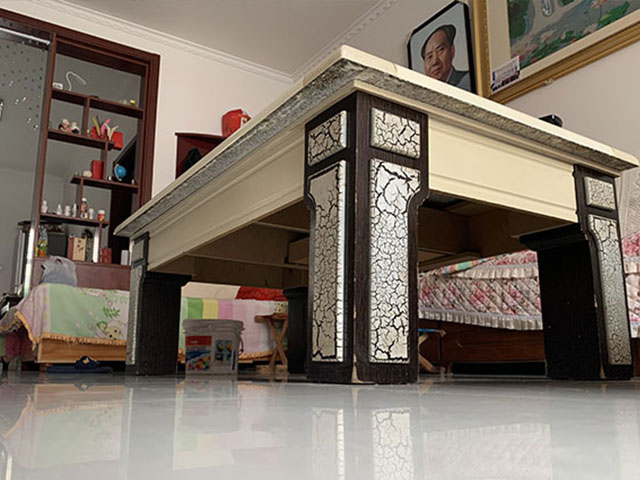stool: (251, 312, 294, 371)
table: (112, 44, 640, 382)
